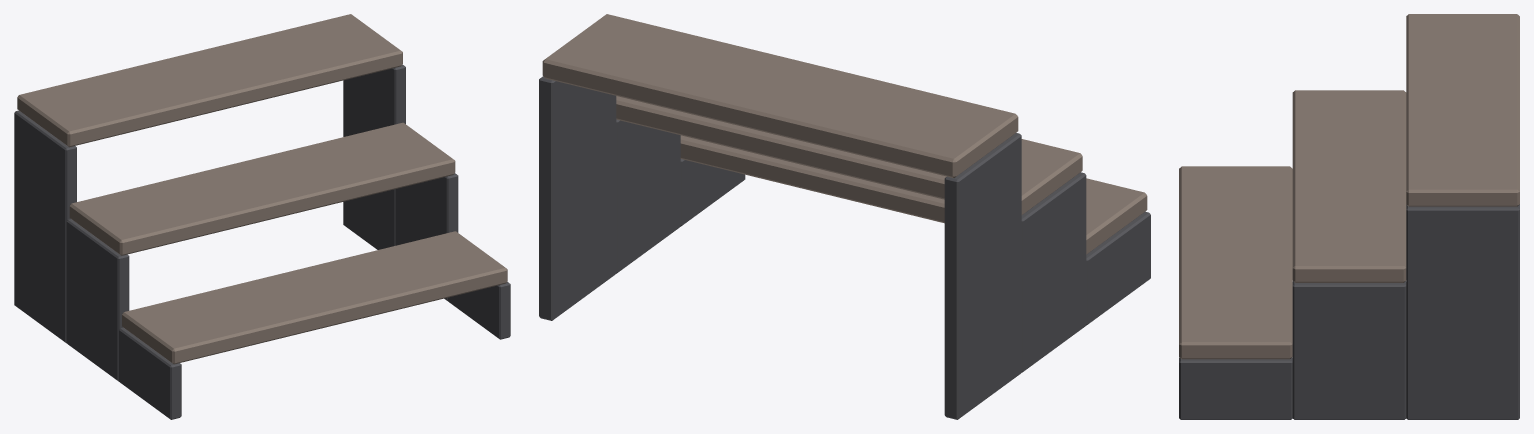
The model's file is theatre-stage-and-backstage-stage-steps-2cbf11aa__35889.glb.
3 views of the same model, side by side, from view 1: azimuth 30°, elevation 25°; view 2: azimuth 150°, elevation 25°; view 3: azimuth 270°, elevation 25° (orthographic). The views are drawn at different scales.
Parts seen in each view (by area): view 1: stage-steps; view 2: stage-steps; view 3: stage-steps.
Boxes of the visible parts, box(x1,y1,x2,y2) form: stage-steps: box(14, 14, 510, 419); stage-steps: box(539, 14, 1150, 419); stage-steps: box(1179, 14, 1519, 419).
Bounding box in the file's own units: 1.01 × 0.6 × 0.8101.
